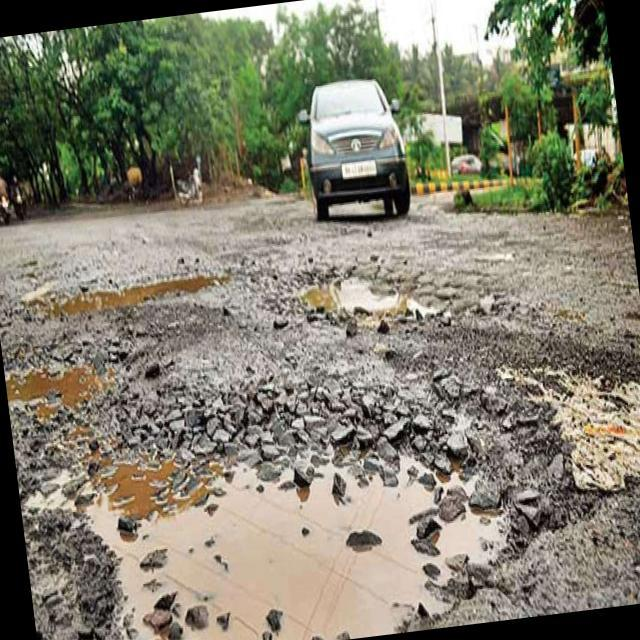Pothole: (207, 394, 451, 640), (60, 260, 212, 328), (302, 257, 416, 339), (11, 344, 120, 422)
